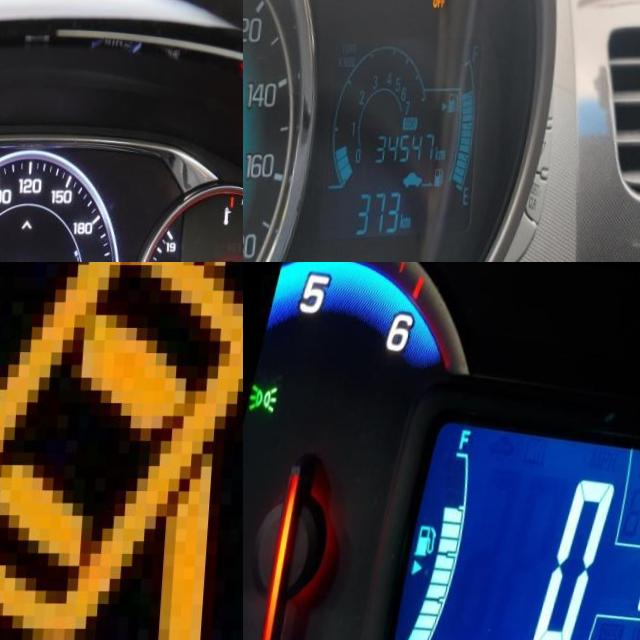LaneCenteringOff: (0, 262, 243, 640)
SideLamp: (248, 381, 283, 414)
